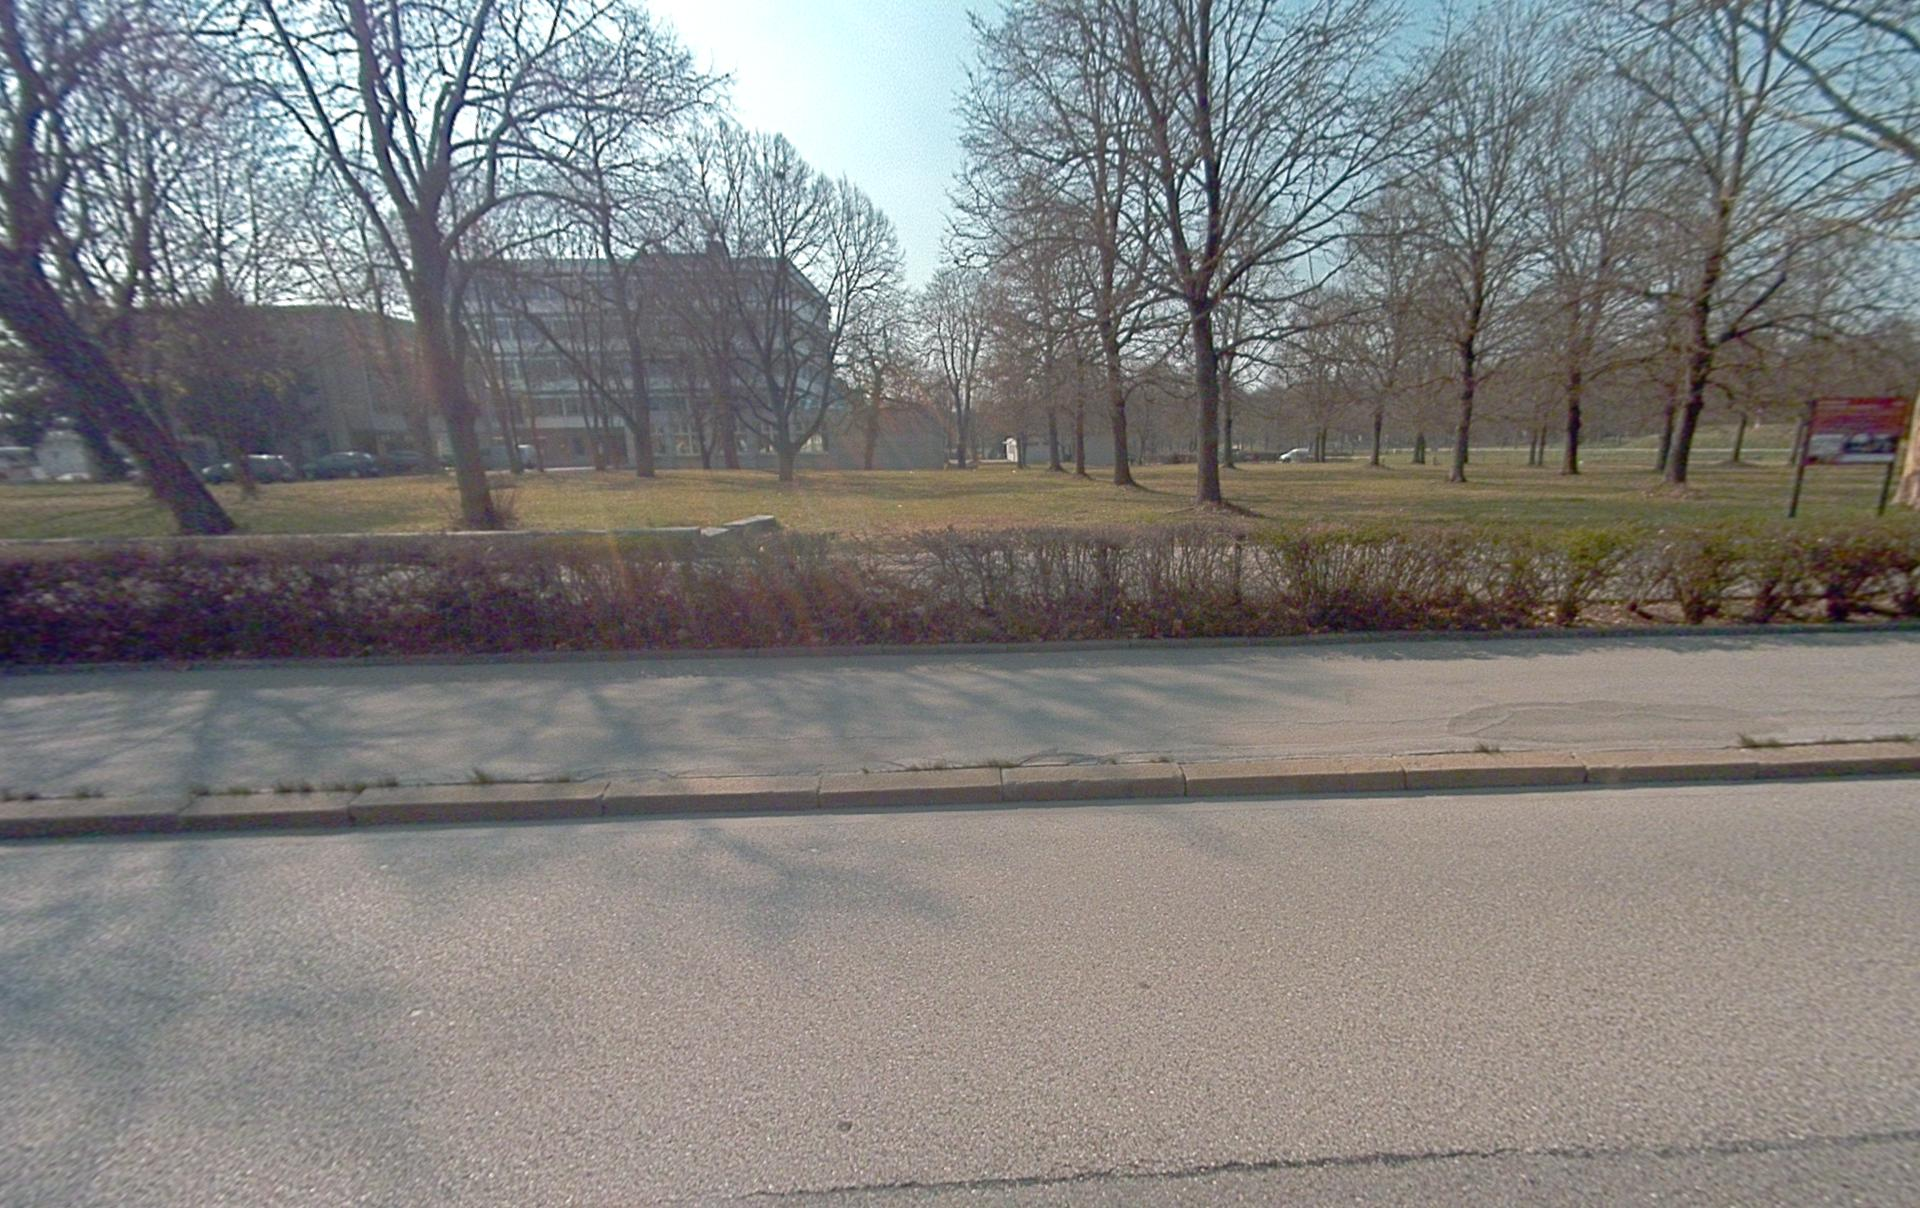car: (200, 454, 296, 484), (302, 450, 380, 480), (381, 448, 448, 475), (1277, 447, 1308, 463)
traffic sign: (1799, 395, 1910, 466)
